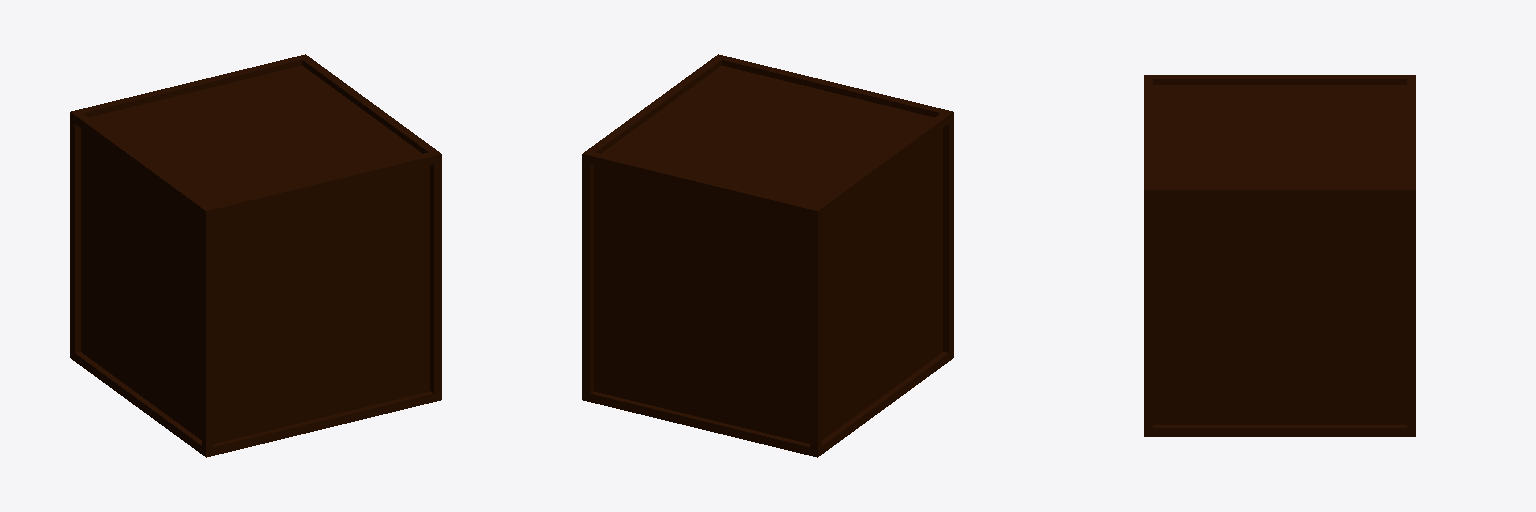
File: crate.obj
The picture shows the model from 3 angles: view 1: azimuth 30°, elevation 25°; view 2: azimuth 150°, elevation 25°; view 3: azimuth 270°, elevation 25°; orthographic projection.
Parts seen in each view (by area): view 1: Cube; view 2: Cube; view 3: Cube.
Boxes of the visible parts, box(x1,y1,x2,y2) form: Cube: box(70, 54, 441, 457); Cube: box(582, 54, 953, 457); Cube: box(1144, 75, 1415, 436).
Size of the model in its own units: 1 by 1 by 1.